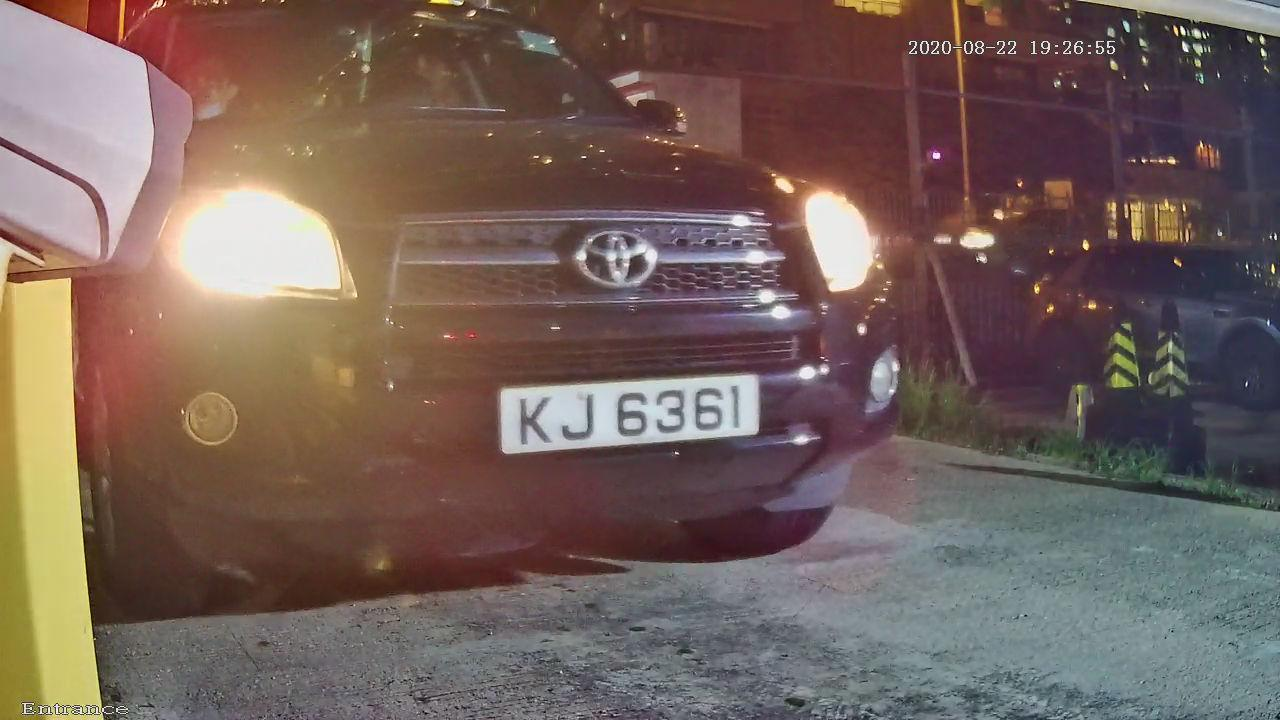Car: (29, 29, 961, 595)
License Plate: (481, 364, 778, 463)
